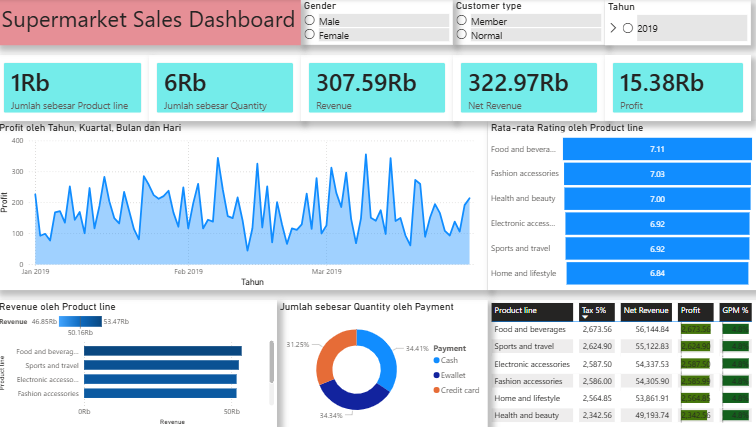

The dashboard page shown, as its layout file describes it:
{"tool":"powerbi","page":{"name":"Halaman 1","canvas":[1280,720],"ordinal":0},"visuals":[{"type":"tableEx","fields":{"Values":["supermarket_sales.Product line","supermarket_sales.Tax 5%","supermarket_sales.Net Revenue","supermarket_sales.Profit","supermarket_sales.GPM %"]},"box":[826.5,505.6,453.5,215],"z":0,"group":"g1"},{"type":"donutChart","fields":{"Y":["Sum(supermarket_sales.Quantity)"],"Category":["supermarket_sales.Payment"]},"box":[472,505.6,354.4,215],"z":1000,"group":"g1"},{"type":"barChart","fields":{"Category":["supermarket_sales.Product line"],"Y":["supermarket_sales.Revenue"]},"box":[0,505.6,472,215],"z":2000,"group":"g1"},{"type":"areaChart","fields":{"Y":["supermarket_sales.Profit"],"Category":["supermarket_sales.Date.Variasi.Hierarki Tanggal.Tahun","supermarket_sales.Date.Variasi.Hierarki Tanggal.Kuartal","supermarket_sales.Date.Variasi.Hierarki Tanggal.Bulan","supermarket_sales.Date.Variasi.Hierarki Tanggal.Hari"]},"box":[0,204.9,826.5,283.9],"z":3000,"group":"g1"},{"type":"funnel","fields":{"Y":["Avg(supermarket_sales.Rating)"],"Category":["supermarket_sales.Product line"]},"box":[826.5,204.9,453.5,283.9],"z":4000,"group":"g1"},{"type":"cardVisual","fields":{"Data":["CountNonNull(supermarket_sales.Product line)"]},"box":[0,94.1,257,110.9],"z":5000,"group":"g1"},{"type":"cardVisual","fields":{"Data":["Sum(supermarket_sales.Quantity)"]},"box":[257,94.1,255.3,110.9],"z":6000,"group":"g1"},{"type":"cardVisual","fields":{"Data":["supermarket_sales.Revenue"]},"box":[512.3,94.1,255.3,110.9],"z":7000,"group":"g1"},{"type":"cardVisual","fields":{"Data":["supermarket_sales.Net Revenue"]},"box":[767.7,94.1,255.3,110.9],"z":8000,"group":"g1"},{"type":"listSlicer","fields":{"Values":["supermarket_sales.Customer type"]},"box":[767.7,0,255.3,77.3],"z":9000,"group":"g1"},{"type":"listSlicer","fields":{"Values":["supermarket_sales.Date.Variasi.Hierarki Tanggal.Tahun","supermarket_sales.Date.Variasi.Hierarki Tanggal.Kuartal","supermarket_sales.Date.Variasi.Hierarki Tanggal.Bulan","supermarket_sales.Date.Variasi.Hierarki Tanggal.Hari"]},"box":[1023,1.7,245.2,75.6],"z":10000,"group":"g1"},{"type":"listSlicer","fields":{"Values":["supermarket_sales.Gender"]},"box":[512.3,0,255.3,77.3],"z":11000,"group":"g1"},{"type":"group","id":"g1","title":"Grup 1","box":[0,0,1280,720.6],"z":11003},{"type":"textbox","box":[0,1.7,512.3,75.6],"z":12000,"group":"g1"},{"type":"cardVisual","fields":{"Data":["supermarket_sales.Profit"]},"box":[1023,94.1,245.2,110.9],"z":13000,"group":"g1"}]}

Visuals, with their boxes in screenshot pixels (x1, y1, x2, y2), scaled from the page's 1280x720 canvas onto the 756x427 screenshot:
tableEx - supermarket_sales.Product line x supermarket_sales.Tax 5%: 488 300 755 426
donutChart - Sum(supermarket_sales.Quantity) x supermarket_sales.Payment: 279 300 488 426
barChart - supermarket_sales.Product line x supermarket_sales.Revenue: 0 300 279 426
areaChart - supermarket_sales.Profit x supermarket_sales.Date.Variasi.Hierarki Tanggal.Tahun: 0 122 488 290
funnel - Avg(supermarket_sales.Rating) x supermarket_sales.Product line: 488 122 755 290
cardVisual - CountNonNull(supermarket_sales.Product line): 0 56 152 122
cardVisual - Sum(supermarket_sales.Quantity): 152 56 303 122
cardVisual - supermarket_sales.Revenue: 303 56 453 122
cardVisual - supermarket_sales.Net Revenue: 453 56 604 122
listSlicer - supermarket_sales.Customer type: 453 0 604 46
listSlicer - supermarket_sales.Date.Variasi.Hierarki Tanggal.Tahun x supermarket_sales.Date.Variasi.Hierarki Tanggal.Kuartal: 604 1 749 46
listSlicer - supermarket_sales.Gender: 303 0 453 46
"Grup 1" group: 0 0 755 426
textbox: 0 1 303 46
cardVisual - supermarket_sales.Profit: 604 56 749 122
